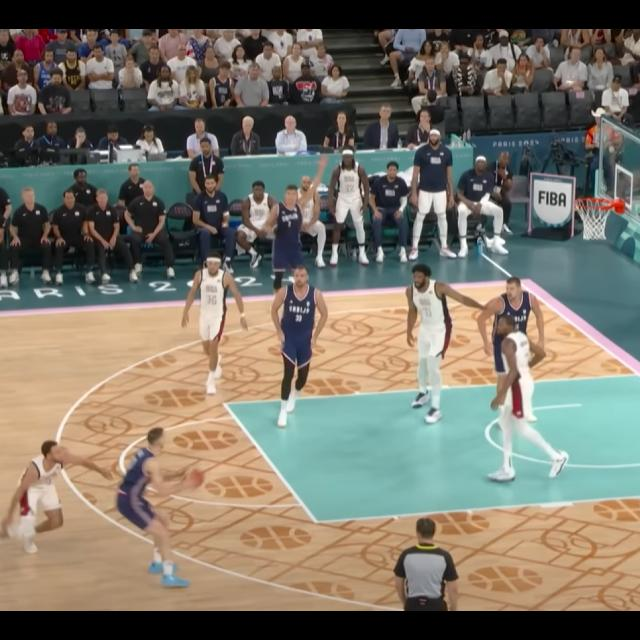basketball: (180, 469, 204, 492)
hoop: (569, 196, 617, 244)
